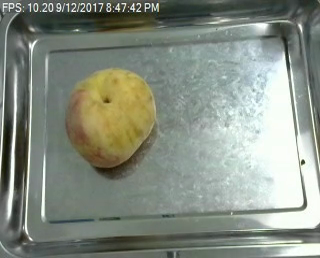Peach: (64, 67, 156, 167)
